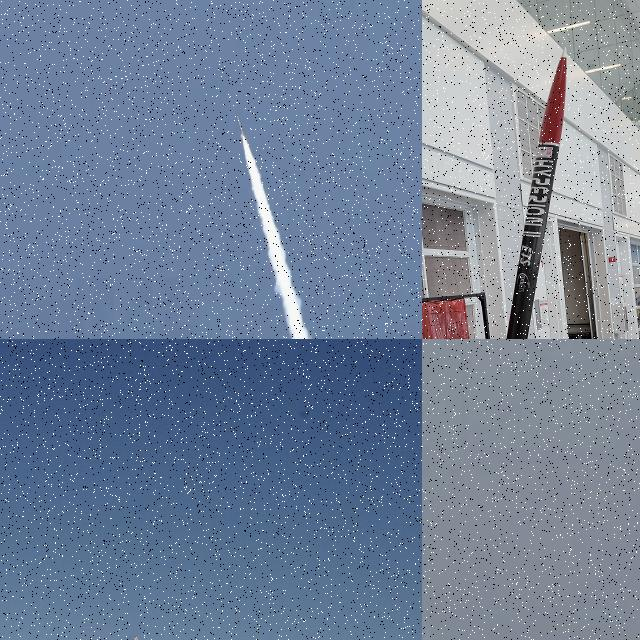Rocket: (506, 46, 566, 339), (237, 116, 243, 136)
